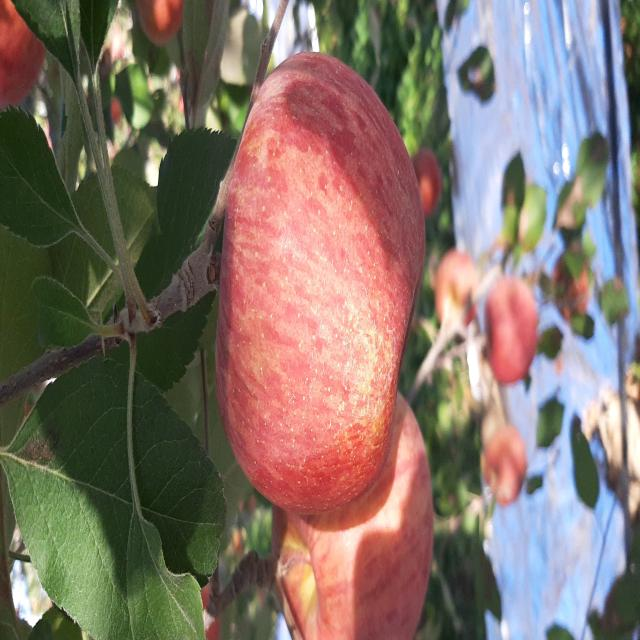fresh: (212, 41, 431, 526)
